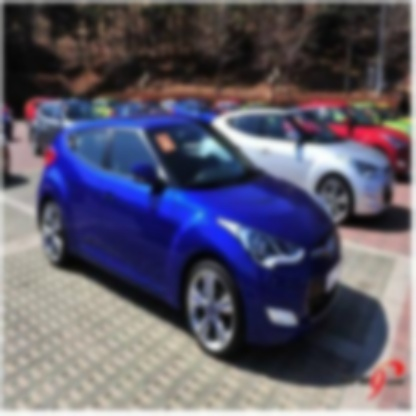Vehicle: (34, 112, 346, 370)
